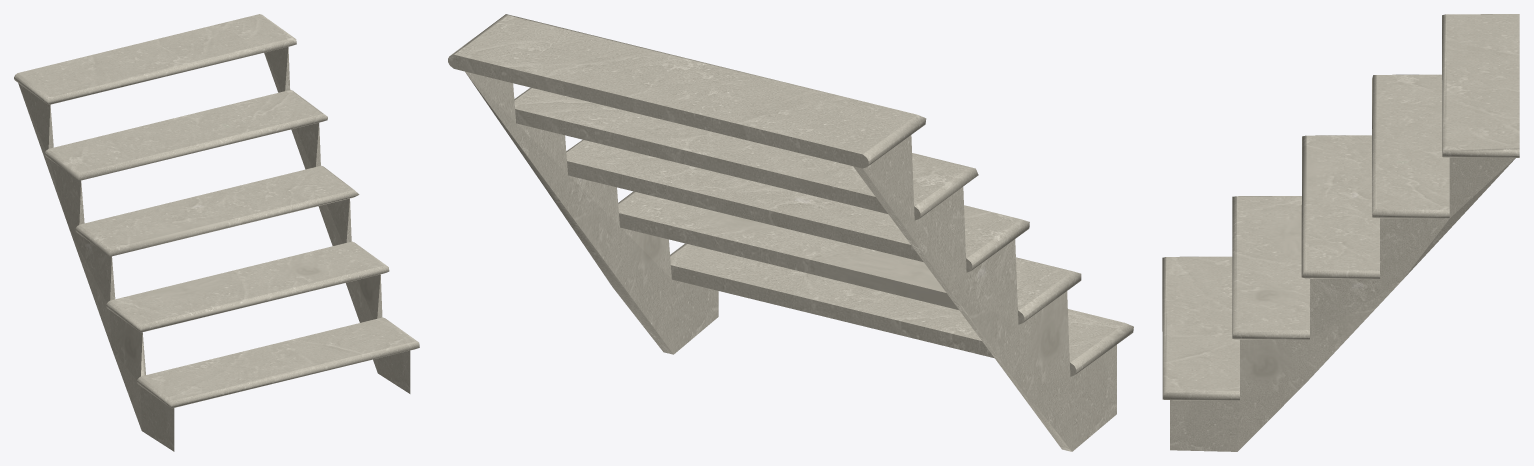
Rendered from AlabasterStairs.001.glb.
3 renders of one model, left to right at view 1: azimuth 30°, elevation 25°; view 2: azimuth 150°, elevation 25°; view 3: azimuth 270°, elevation 25°, orthographic. The views are drawn at different scales.
Parts seen in each view (by area): view 1: AlabasterStairs.001; view 2: AlabasterStairs.001; view 3: AlabasterStairs.001.
Part boxes in pixels (x1,y1,x2,y2): AlabasterStairs.001: (14,14,419,451); AlabasterStairs.001: (448,14,1133,451); AlabasterStairs.001: (1162,14,1519,451).
Size of what is drawn, in the model's own units: 1.4 by 1.43 by 1.52.
1 material, 1 textured.
